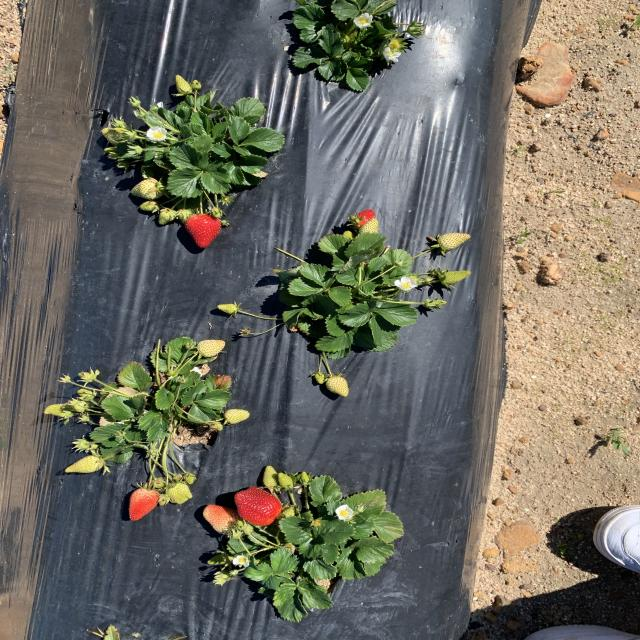unripe: (233, 486, 283, 526), (184, 215, 222, 248), (130, 489, 159, 521), (354, 208, 376, 231)
